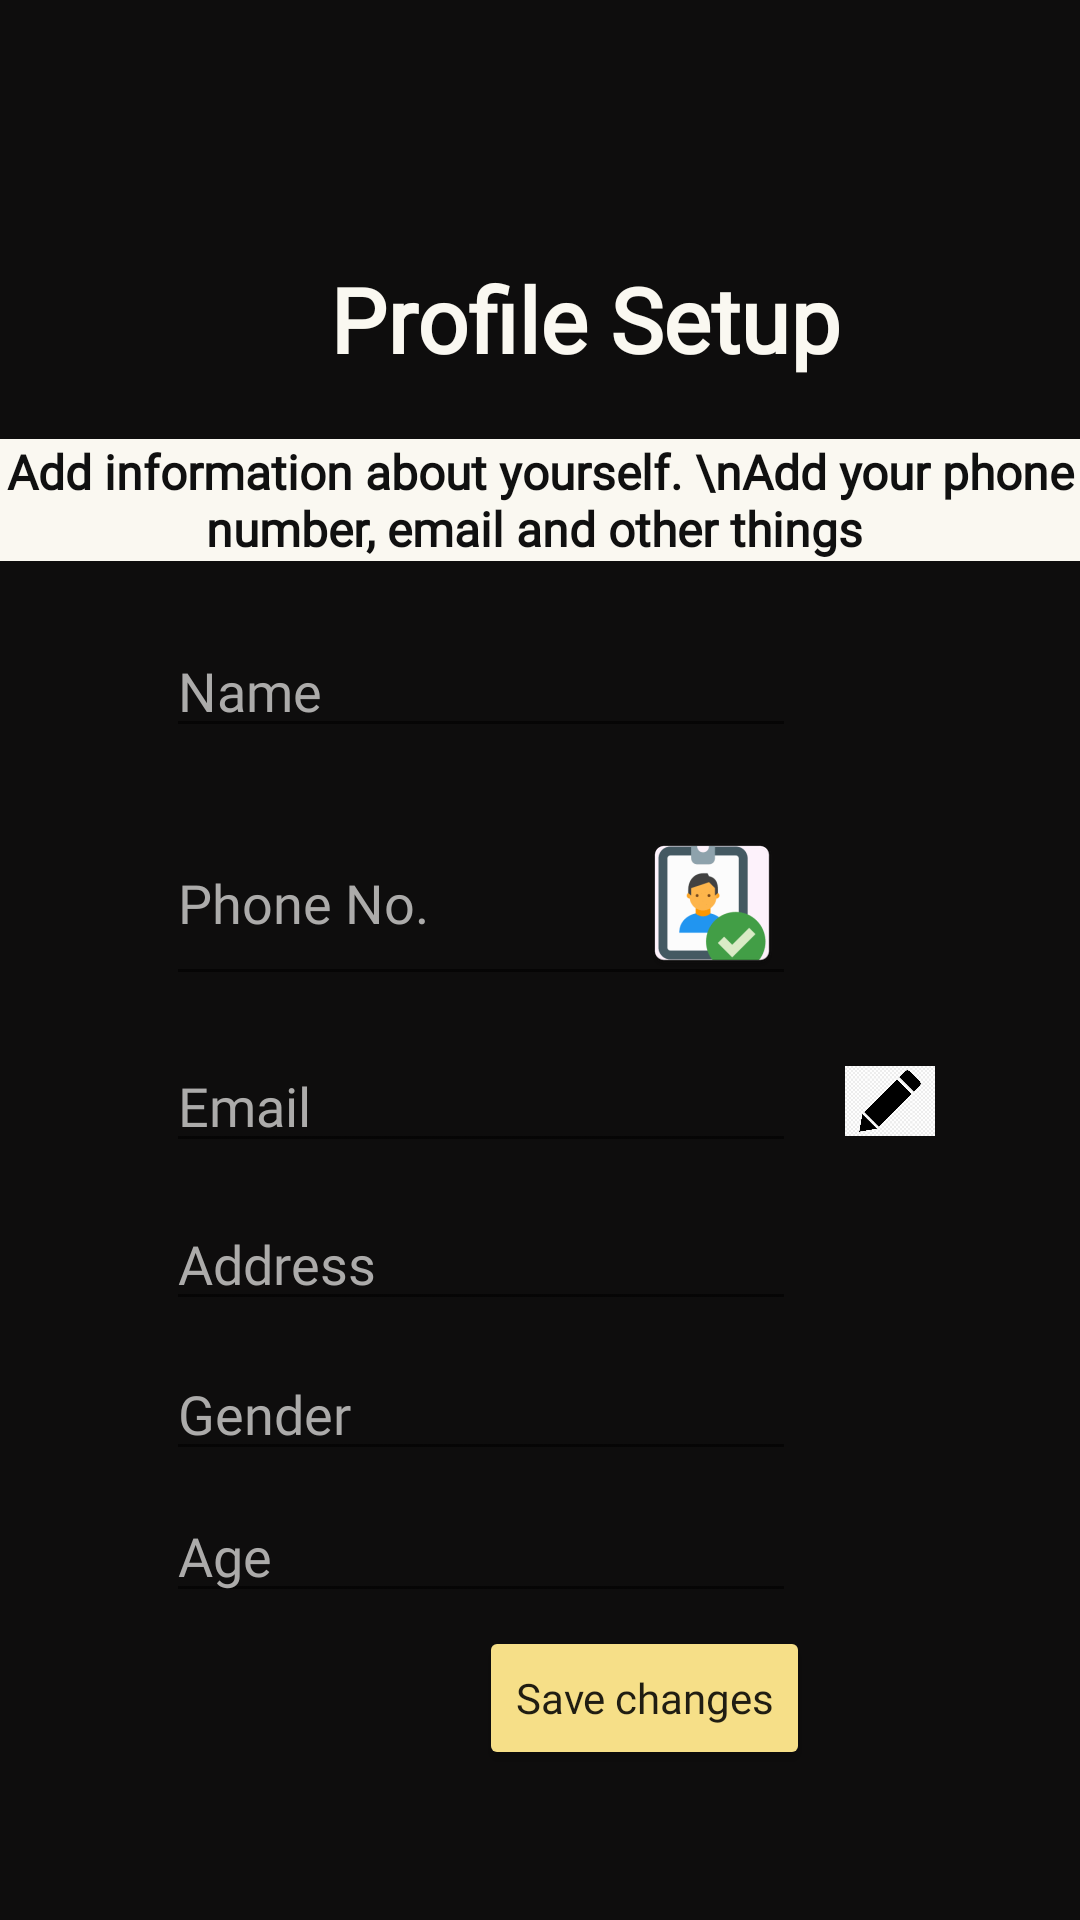

Icons on this 1080px x 1920px Android screen, each with the point to tap as (x=x, y=y):
edit: (x=890, y=1101)
